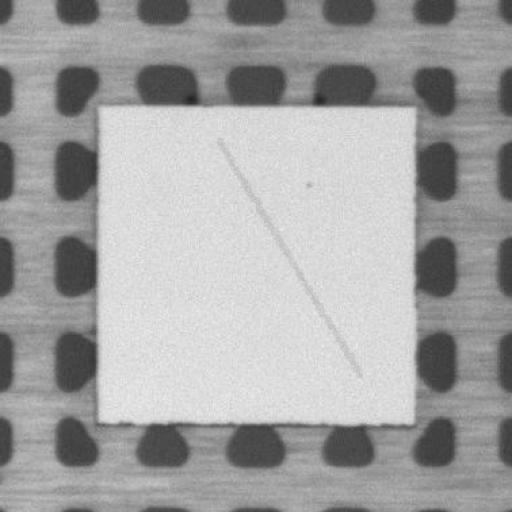DIE_CRACK: (217, 138, 360, 376)
DIE_INK: (300, 176, 314, 190)
